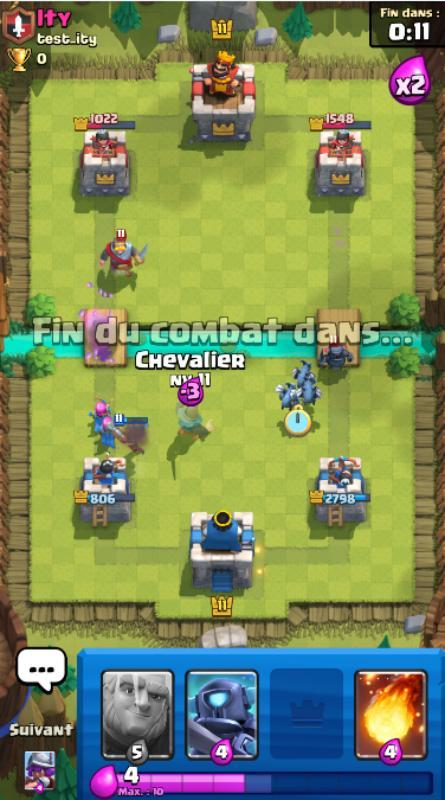archere: (89, 396, 116, 434), (97, 409, 119, 449)
chevalier: (98, 227, 150, 278), (172, 399, 216, 444)
gargouille: (296, 376, 324, 407), (290, 358, 317, 388), (274, 381, 300, 411)
mini_PEKKA: (315, 335, 354, 373)
mousquetaire: (105, 414, 149, 455)
